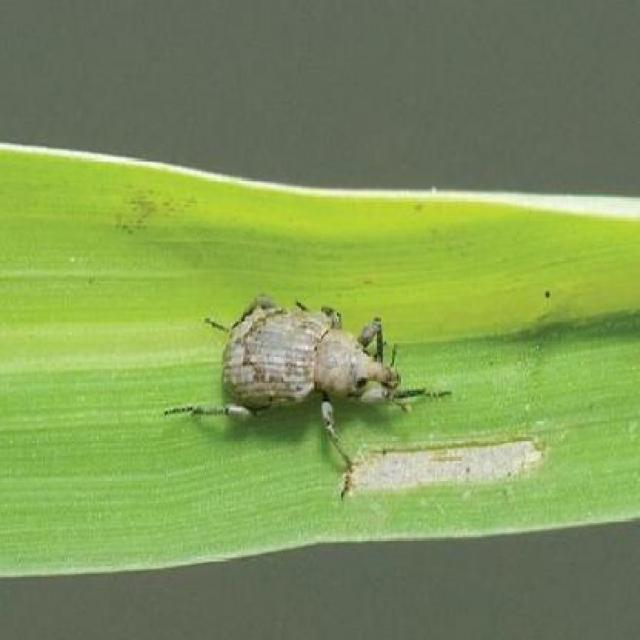rice-bug: (182, 294, 409, 471)
